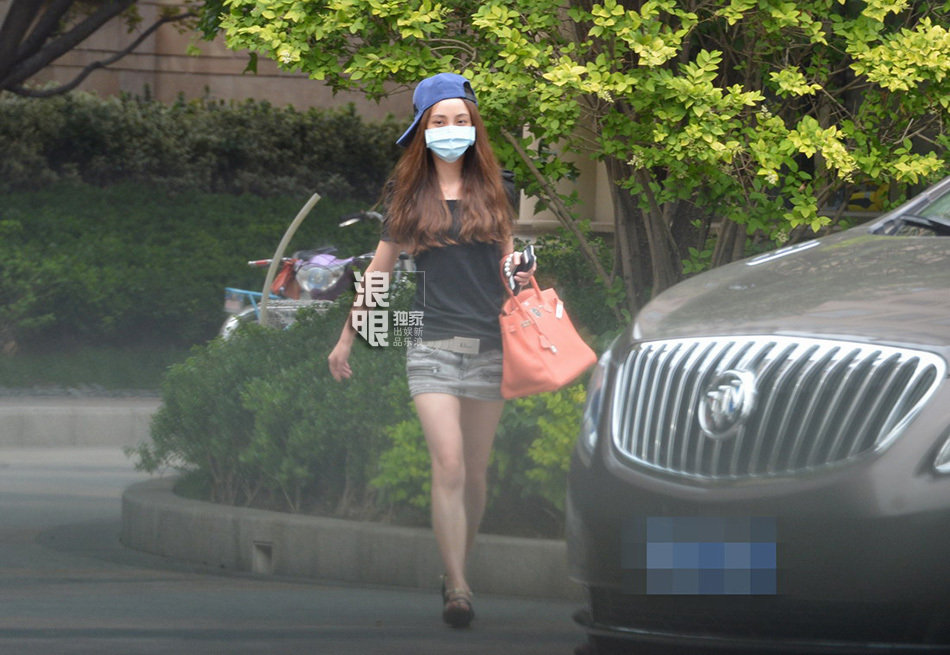face_mask: (427, 100, 474, 161)
